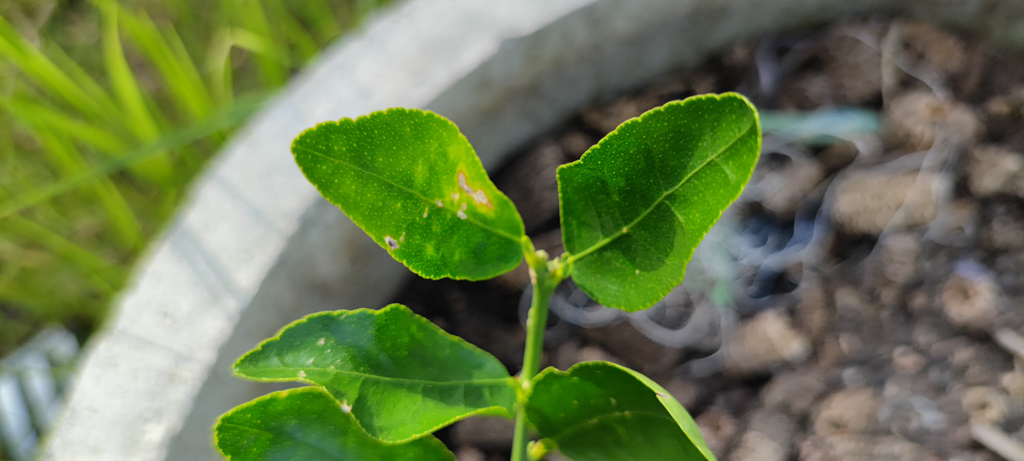frog-eye leafspot: (419, 159, 494, 228), (385, 219, 406, 254)
